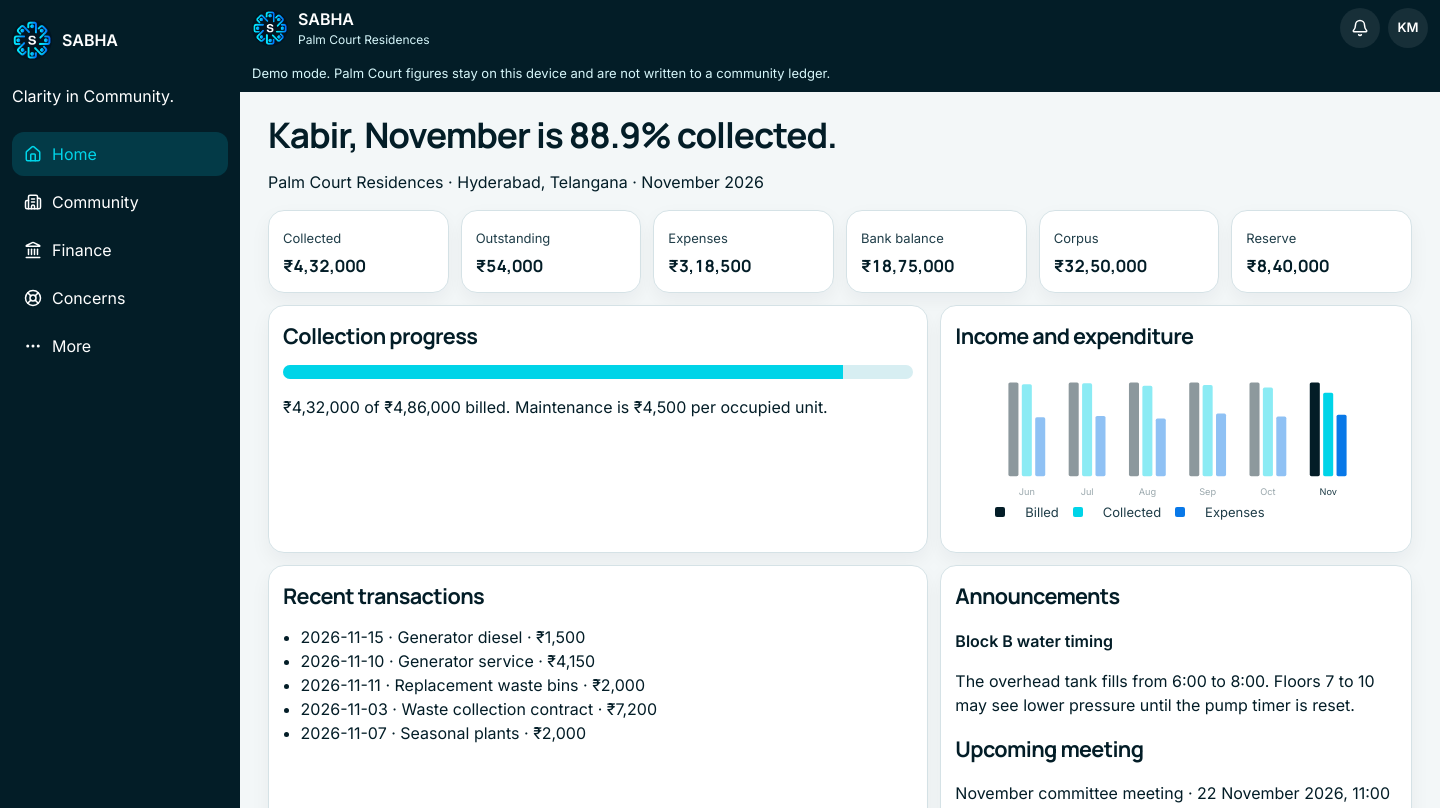
Scenario: home is the only screen rendered, and navigation replaces it
expect the heading "Kabir, November is 88.9% collected." is shown: met, box [268,110,837,158]
Click the link "Concerns".
click(75, 298)  # box [24,288,125,308]
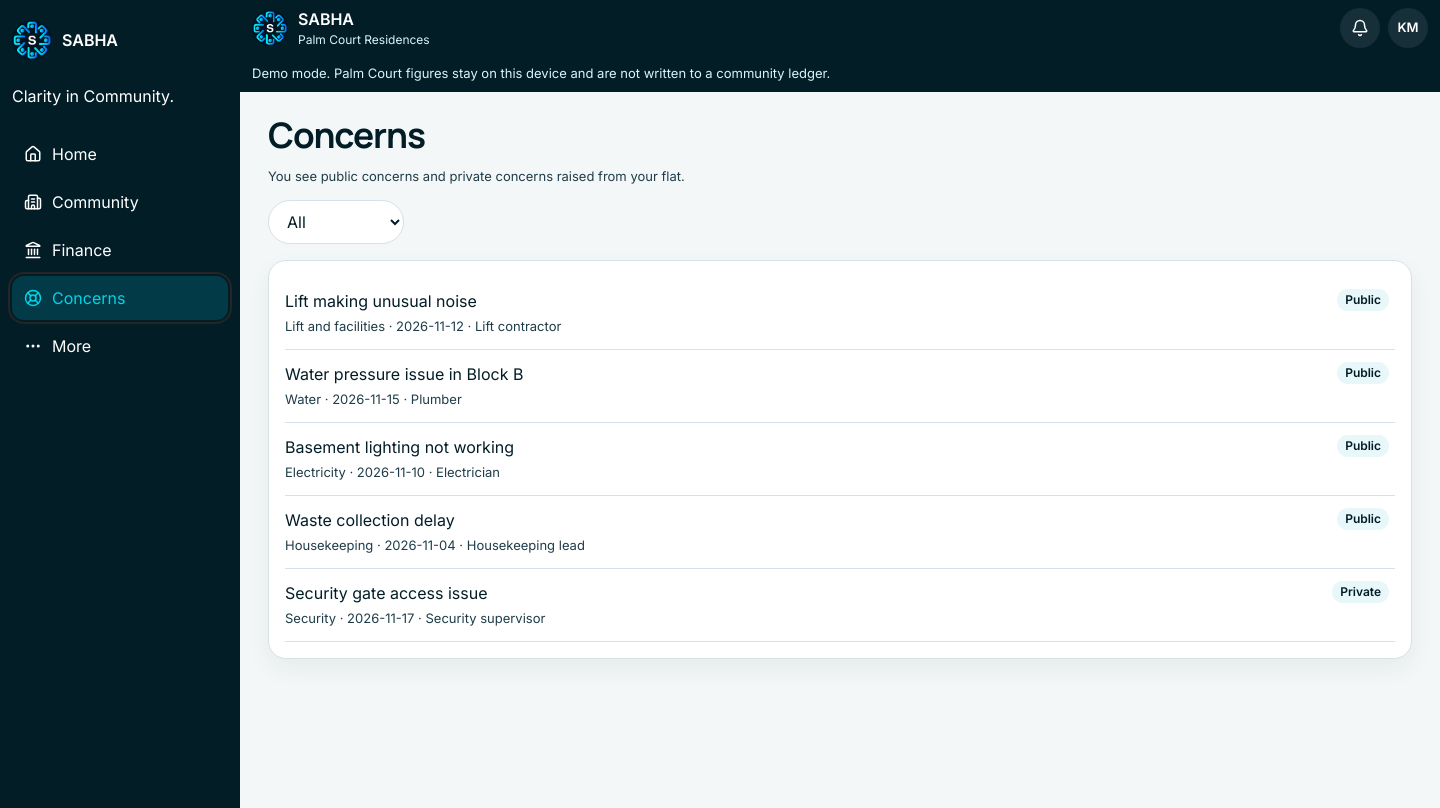
expect the heading "Concerns" is shown: met, box [268,110,425,158]
expect the heading "88.9% collected" is gone: met
expect the button "Security gate access issue" is shown: met, box [285,569,1395,642]
